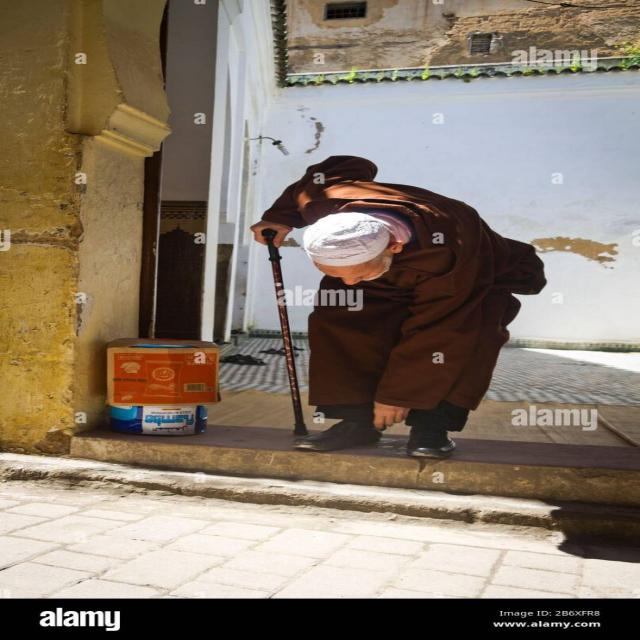idoso em pe: (261, 144, 541, 454)
